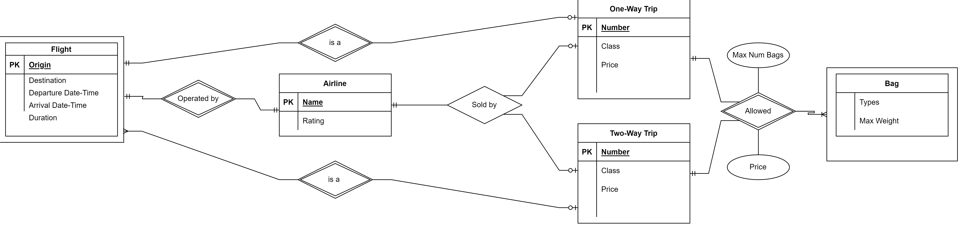entity: (576, 122, 690, 224), (577, 3, 689, 99), (279, 72, 392, 135), (448, 87, 525, 124)
ident_rel: (160, 78, 237, 119), (298, 159, 373, 201), (297, 23, 374, 62), (721, 92, 796, 131)
many: (121, 124, 142, 139), (811, 105, 827, 122)
one: (689, 50, 707, 68), (562, 160, 577, 178), (559, 200, 578, 214), (123, 55, 142, 69), (690, 166, 707, 181), (390, 97, 408, 110), (562, 39, 578, 53), (259, 104, 280, 114), (562, 10, 578, 23), (122, 90, 140, 101)
rel_attr: (725, 40, 791, 69), (725, 153, 790, 180)
weak_entity: (1, 37, 123, 143), (826, 67, 958, 163)
